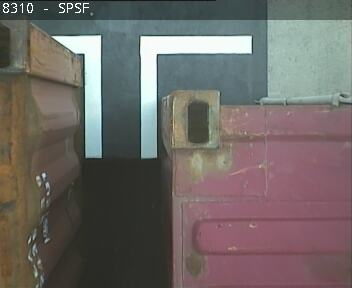groundmarker_1: (53, 35, 250, 156)
